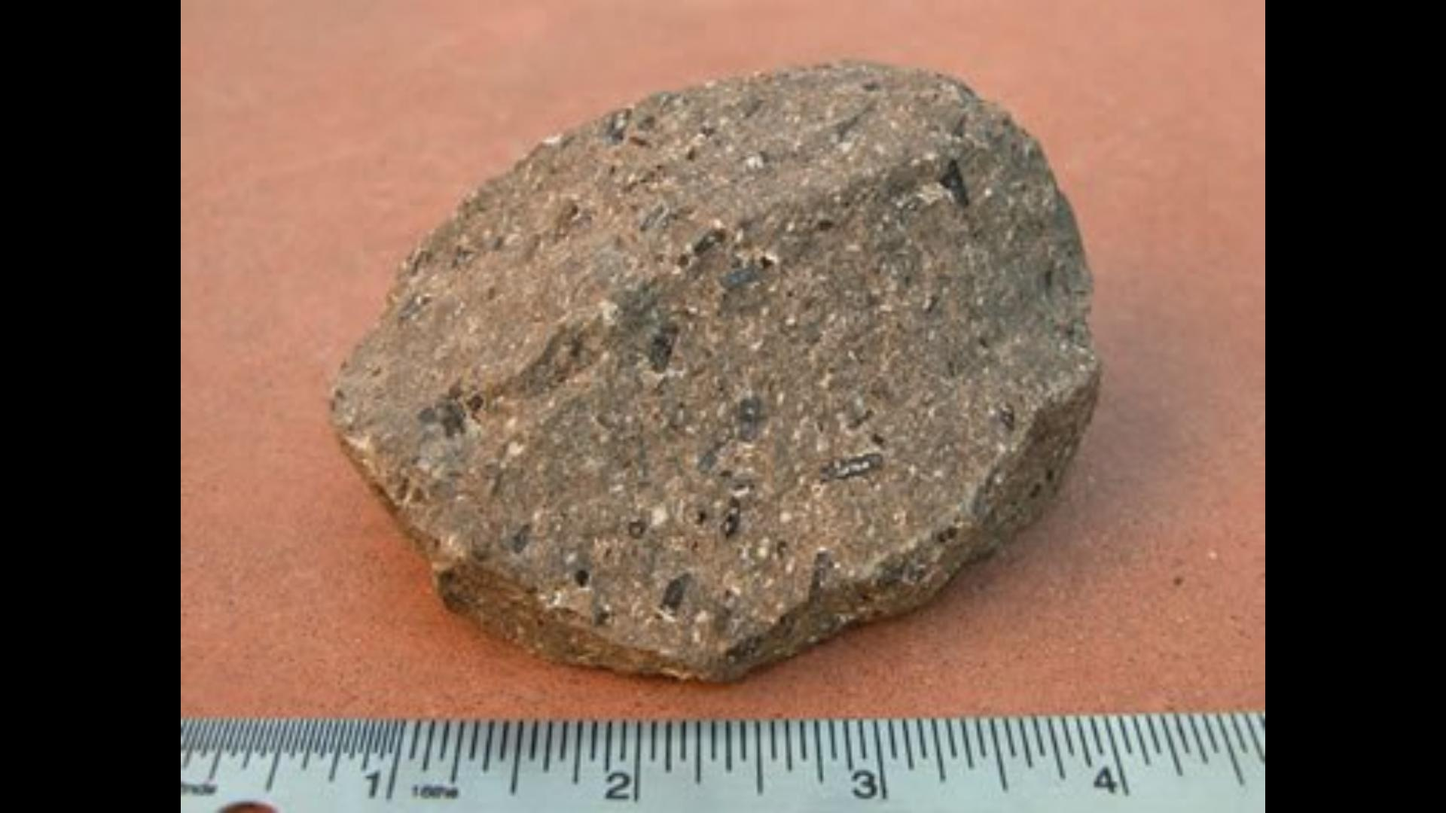rock: (335, 63, 1097, 676)
